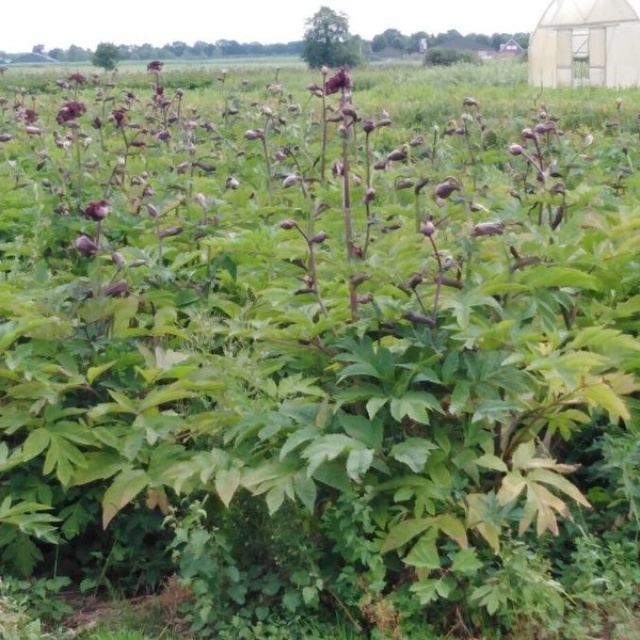obstacle: (96, 94, 605, 580)
